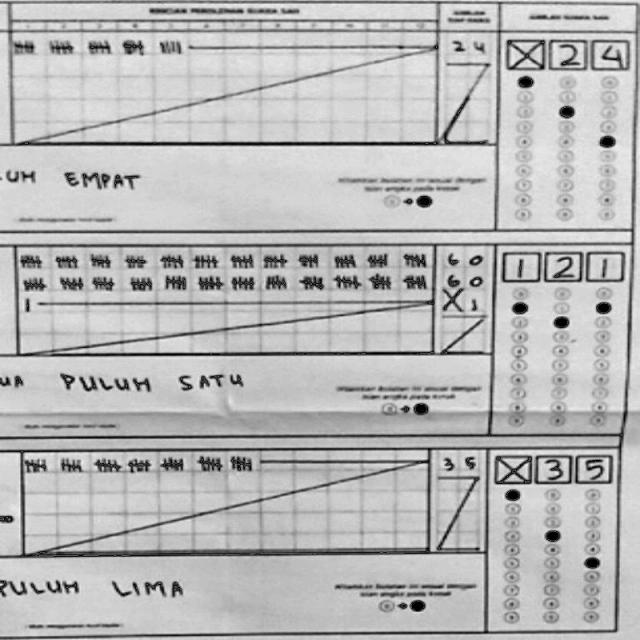Suara: (496, 247, 626, 282), (492, 450, 610, 488), (508, 34, 626, 68)
